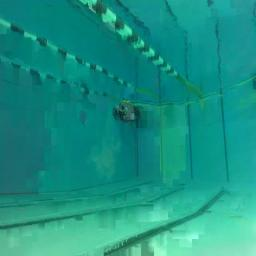front: (111, 100, 143, 124)
